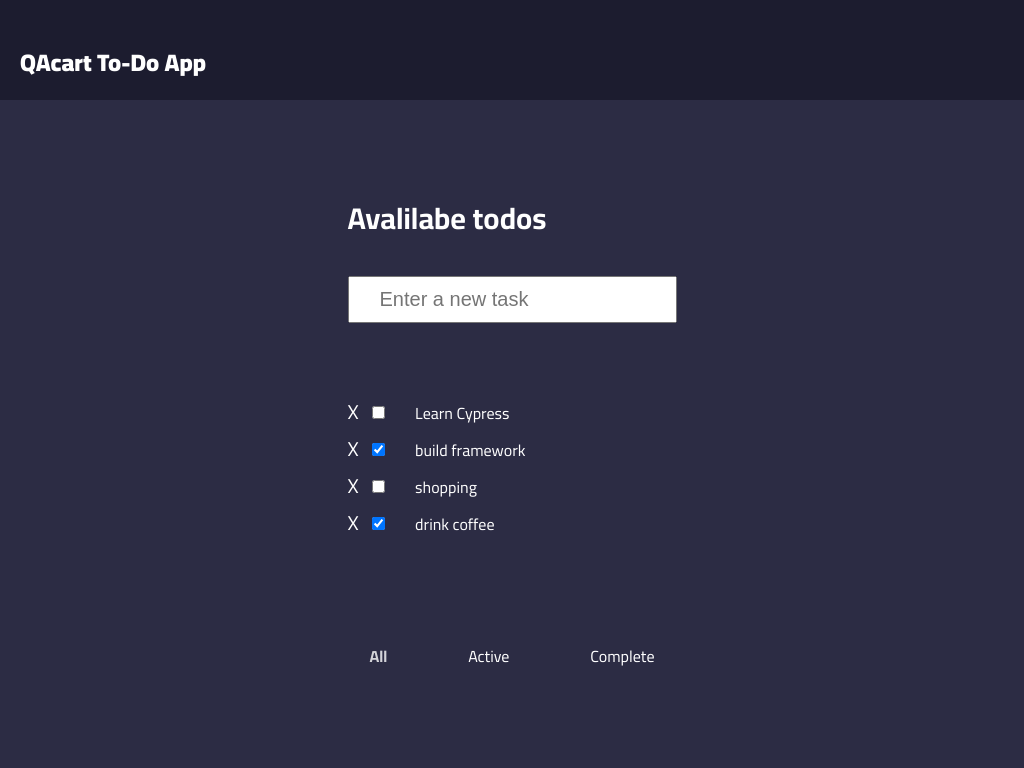
it: UI - TODO filter test cases › should filter out the complete todos correctly
Click the link "Complete" at (622, 656), box [588, 641, 656, 671]
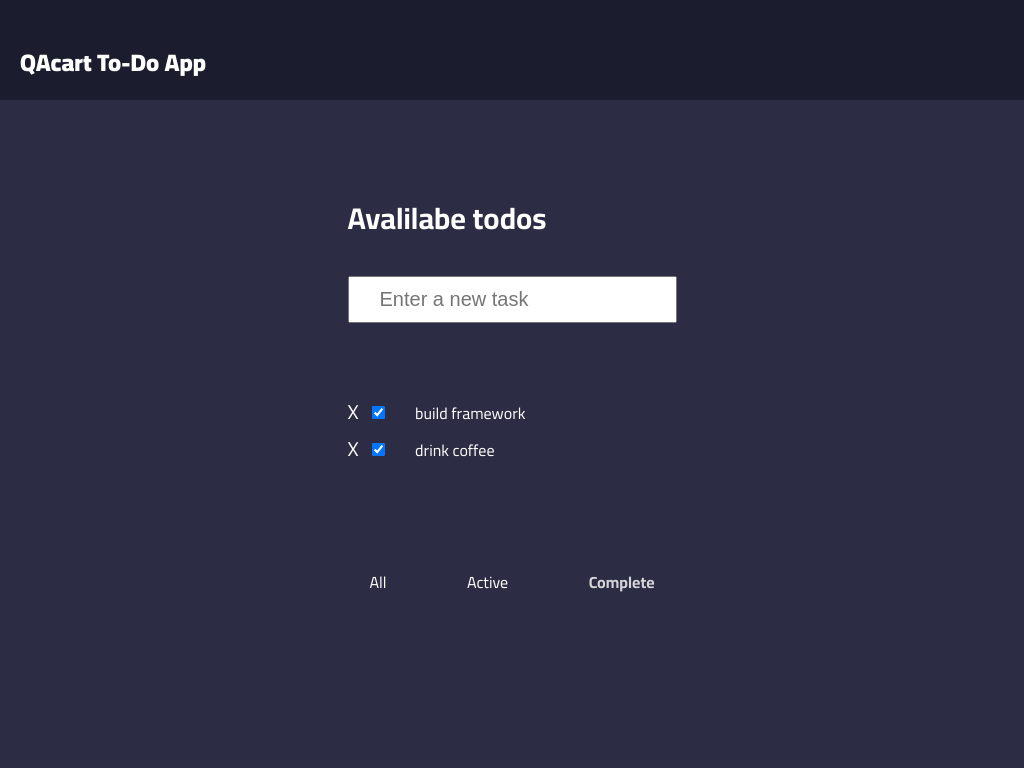
expect the checkbox with class "todo-checkbox" next to "drink coffee" is checked: met, box [372, 443, 385, 456]
expect the checkbox with class "todo-checkbox" next to "build framework" is checked: met, box [372, 406, 385, 419]
